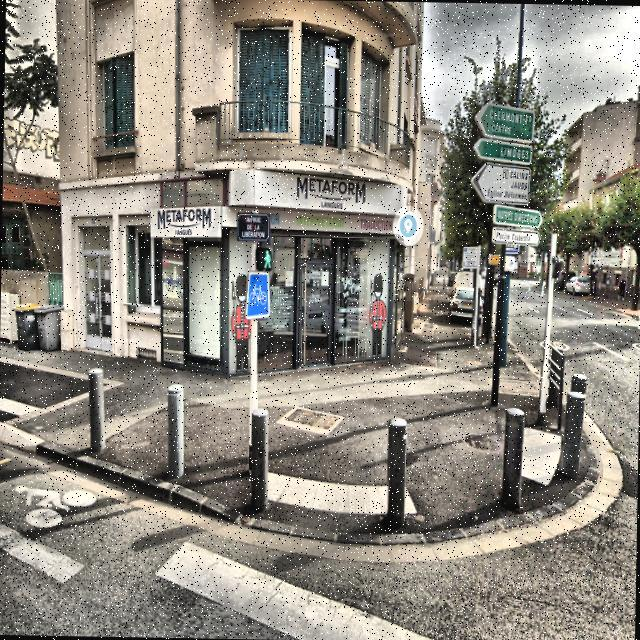green_light: (262, 247, 272, 268)
